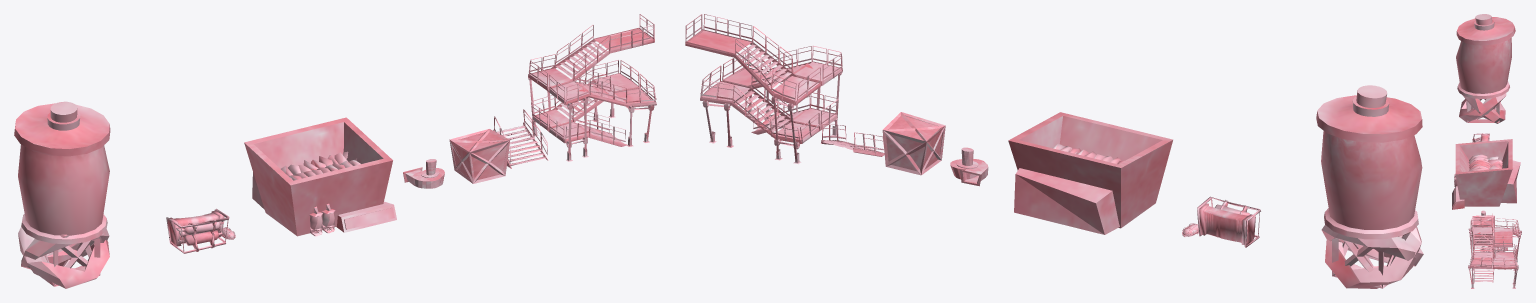
The model's file is factoryprikolyambi.fbx.
The picture shows the model from 3 angles, left to right: view 1: azimuth 30°, elevation 25°; view 2: azimuth 150°, elevation 25°; view 3: azimuth 270°, elevation 25°; orthographic projection. The views are drawn at different scales.
Visible parts, largest first — view 1: Cylinder, Cylinder.001, Industrial Stairs, Cube.001, Battery, Industrial Stairs.001, Cylinder.008; view 2: Cylinder, Cylinder.001, Industrial Stairs, Cube.001, Battery, Cylinder.008, Industrial Stairs.001; view 3: Cylinder, Cylinder.001, Industrial Stairs, Cube.001, Battery, Industrial Stairs.001.
Boxes of the visible parts, box(x1,y1,x2,y2) form: Cylinder: box(14, 101, 110, 288); Cylinder.001: box(244, 117, 396, 236); Industrial Stairs: box(528, 14, 656, 161); Cube.001: box(449, 129, 510, 183); Battery: box(166, 208, 229, 253); Industrial Stairs.001: box(493, 109, 548, 168); Cylinder.008: box(403, 159, 444, 188); Cylinder: box(1316, 85, 1423, 288); Cylinder.001: box(1008, 112, 1172, 234); Industrial Stairs: box(685, 14, 842, 164); Cube.001: box(882, 112, 945, 175); Battery: box(1197, 196, 1260, 247); Cylinder.008: box(950, 147, 988, 186); Industrial Stairs.001: box(821, 124, 884, 156); Cylinder: box(1456, 14, 1515, 123); Cylinder.001: box(1452, 139, 1520, 209); Industrial Stairs: box(1468, 218, 1521, 288); Cube.001: box(1472, 215, 1494, 246); Battery: box(1472, 133, 1489, 142); Industrial Stairs.001: box(1480, 236, 1507, 254).
Bounding box in the file's own units: 4315 × 1091 × 670.
